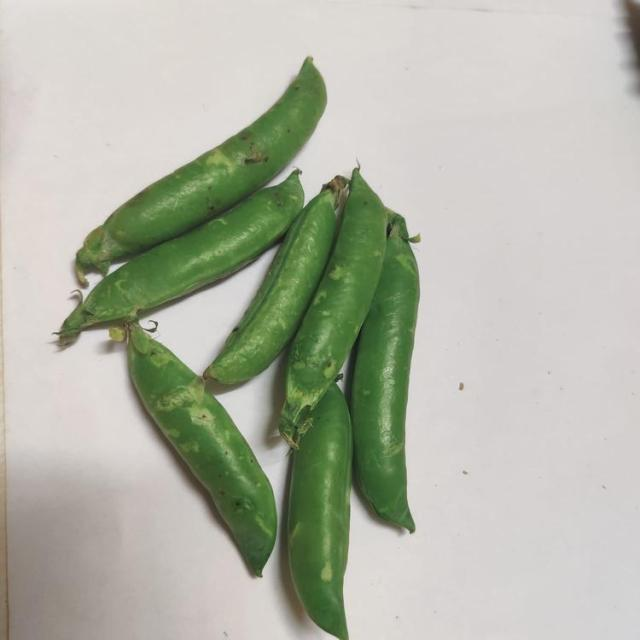Organik: (258, 172, 422, 602), (66, 57, 316, 326), (109, 326, 277, 568)
